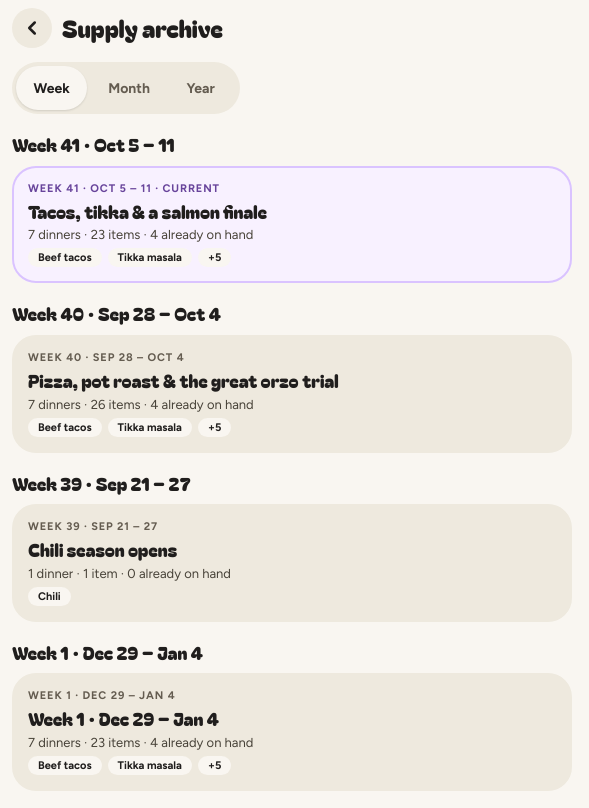
Test: SupplyArchivePage › groups by Year under the headings the server sends, across the month and year boundaries
Check: the text "Chili season opens" is shown, box [28,536,177,562]
Click the radio button labelled "Year" at (201, 88), box [165,66,236,110]
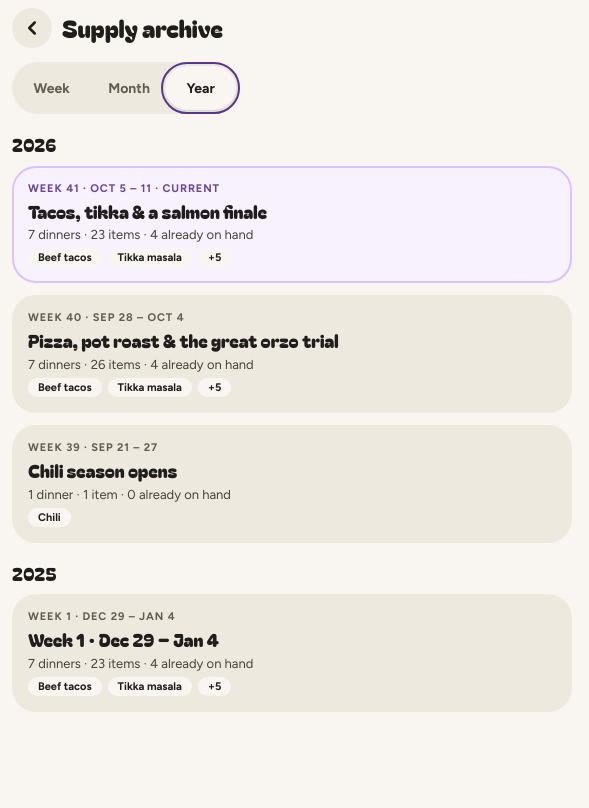
Check: the headings read "2026", "2025", in this order, box [12,131,56,157]; [12,560,56,586]
